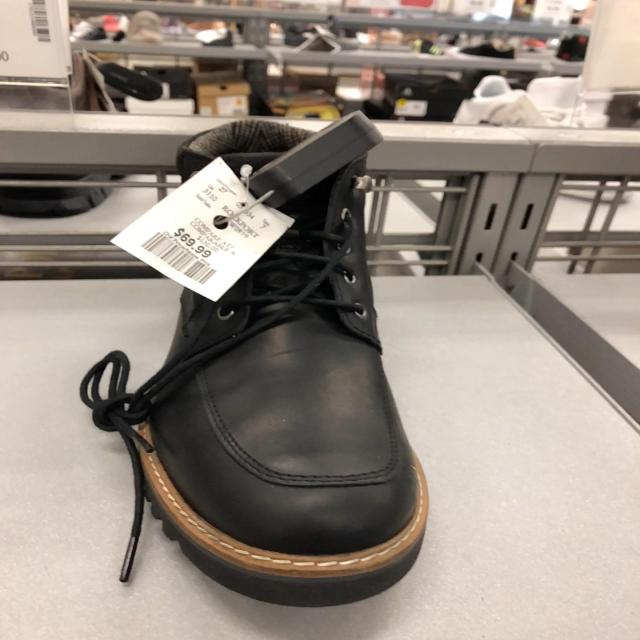shoe: (166, 117, 425, 610)
